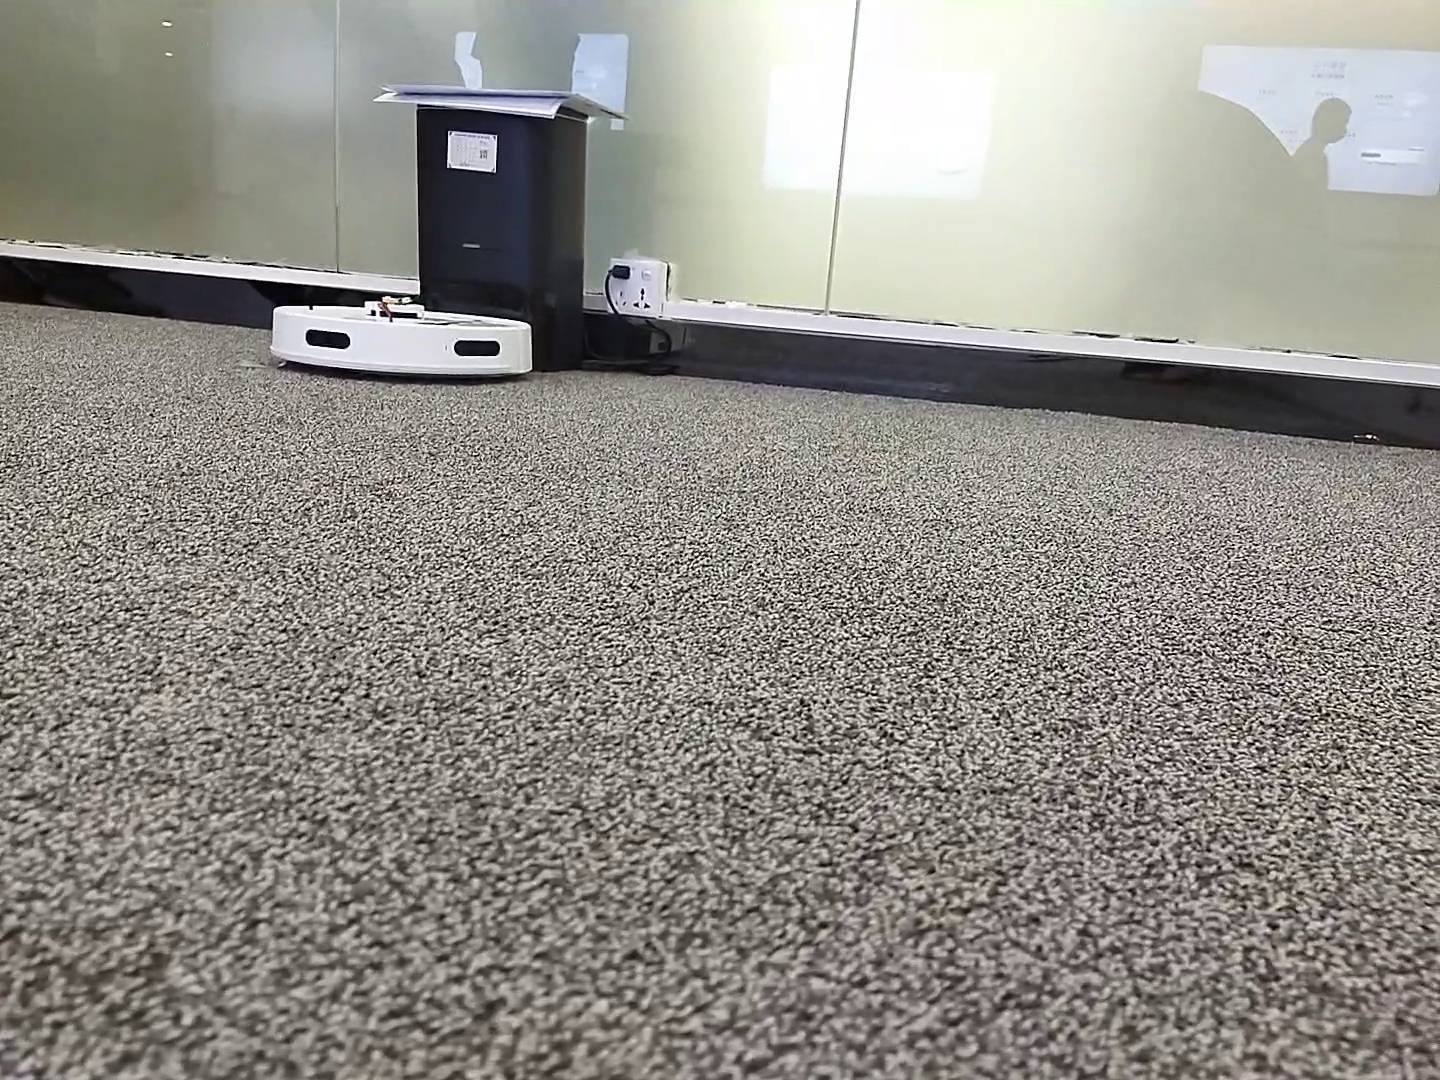dust collecting barrel: (415, 100, 588, 372)
